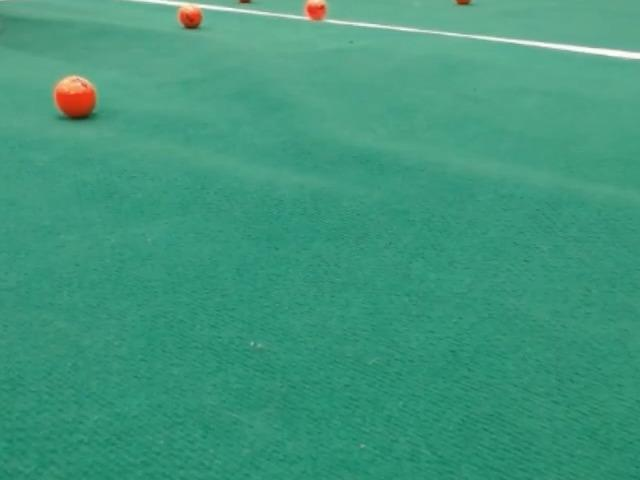Ball: (53, 75, 96, 119), (178, 4, 202, 28), (304, 0, 328, 22)
